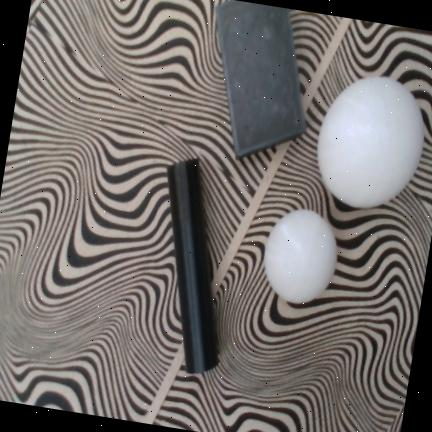Cilindro: (168, 159, 218, 373)
Esfera: (317, 77, 424, 210), (264, 210, 336, 303)
Paralelepipedo: (216, 0, 306, 160)
